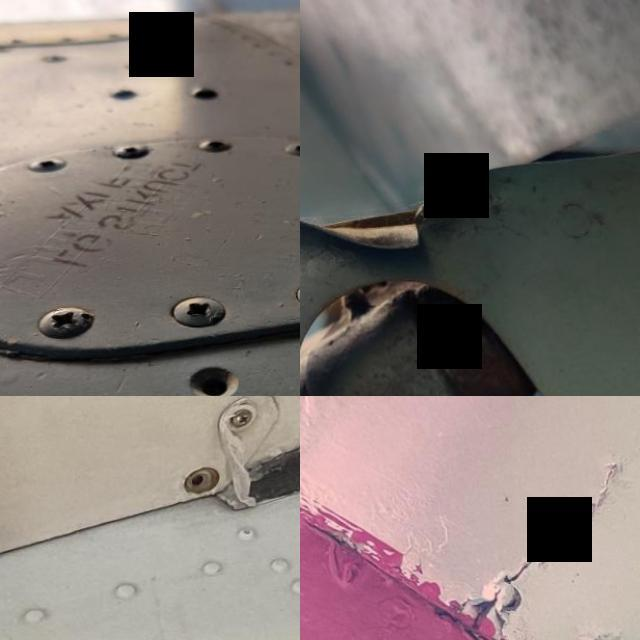Crack: (443, 440, 637, 640), (374, 186, 450, 254), (556, 620, 613, 640)
Missing_Fastener: (165, 336, 263, 396), (173, 459, 219, 504)
